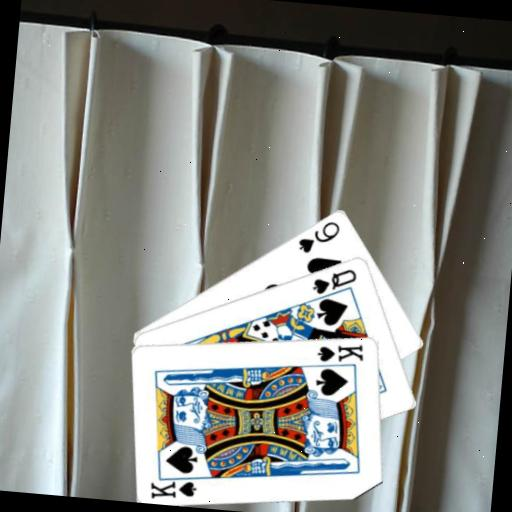9S: (294, 215, 342, 258)
KS: (147, 469, 203, 504), (313, 337, 366, 366)
QS: (308, 263, 359, 299)
